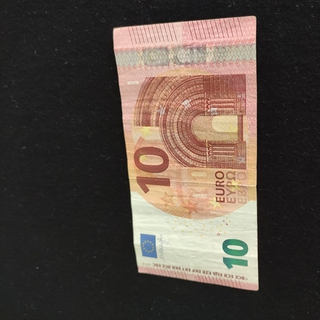10EUROFront: (112, 14, 259, 291)
